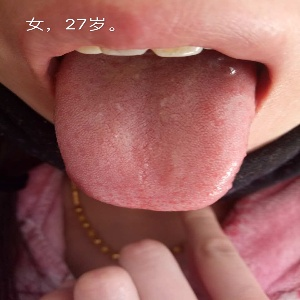st: (52, 73, 264, 218)
